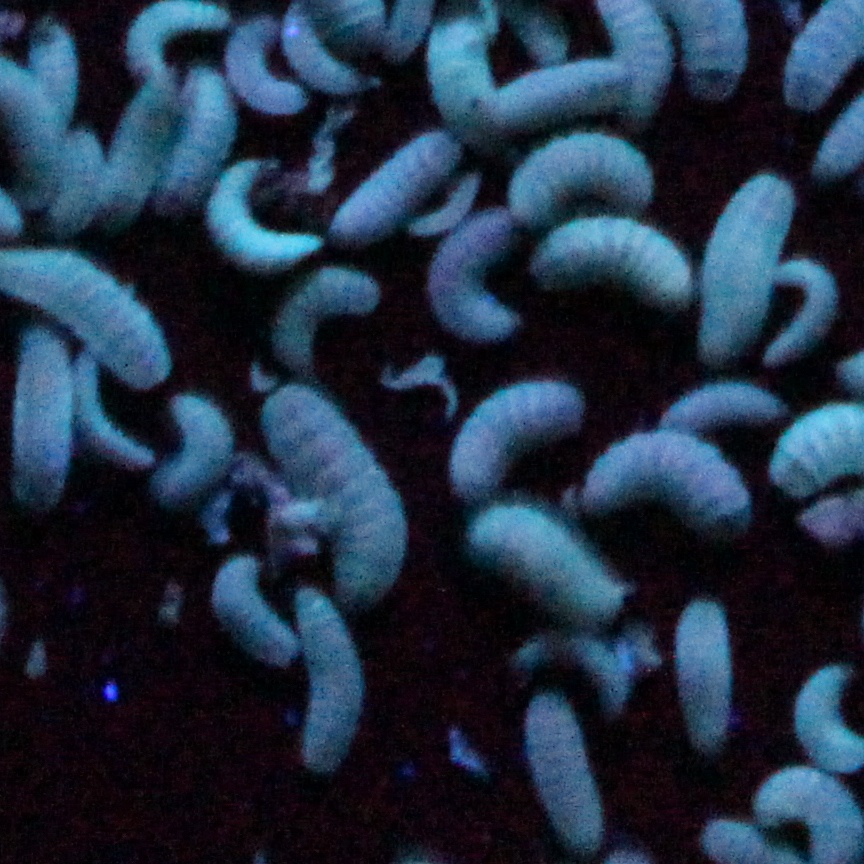larve: (266, 377, 401, 603), (577, 428, 757, 531), (473, 507, 624, 619), (701, 175, 790, 353), (449, 380, 580, 498), (527, 221, 698, 308), (291, 582, 369, 771), (518, 685, 598, 849), (339, 130, 457, 235), (212, 164, 316, 279), (509, 139, 655, 219), (431, 212, 514, 339), (271, 277, 379, 368), (486, 60, 637, 124), (103, 85, 172, 224), (417, 27, 504, 137), (115, 1, 227, 83), (16, 327, 67, 507), (216, 546, 288, 665), (172, 67, 227, 203), (677, 601, 728, 746), (224, 21, 299, 114), (166, 391, 227, 504), (280, 6, 358, 93), (79, 361, 146, 461), (775, 255, 832, 365), (31, 16, 76, 124), (653, 383, 785, 417), (409, 170, 478, 234)
